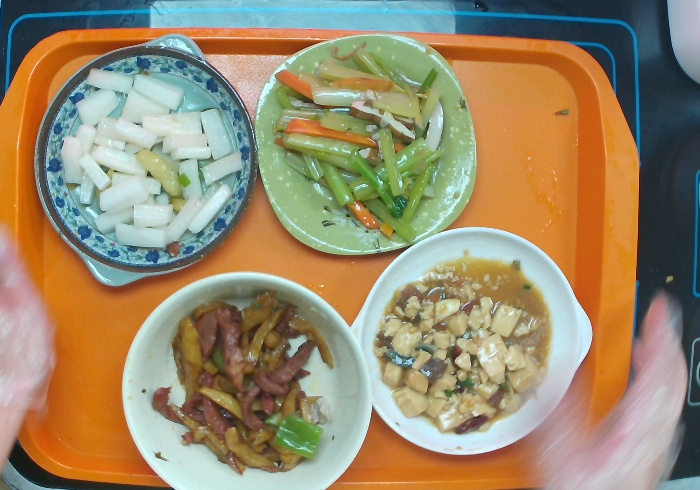NLDX-Bai_Se_Shuang_Er_Die: (346, 224, 595, 458)
NLDX-Bai_Se_Yuan_Wan: (120, 269, 374, 490)
NLDX-Lv_Hua_Fang_Die: (253, 31, 479, 257)
NLDX-Qing_Hua_Shuang_Er_Die: (32, 31, 258, 287)
